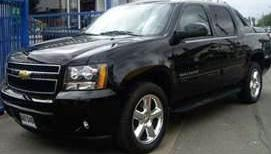front_view: (0, 47, 117, 142)
headlight: (58, 61, 112, 94)
side_glass: (178, 2, 240, 44)
